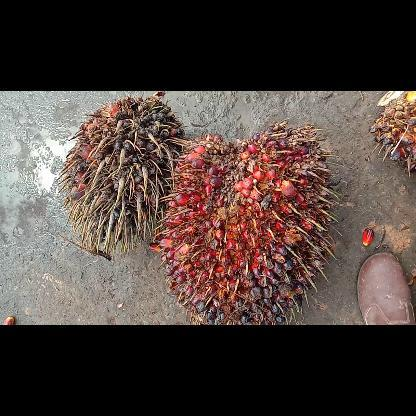TBS abnormal: (54, 91, 182, 259)
TBS masak: (156, 119, 340, 324)
